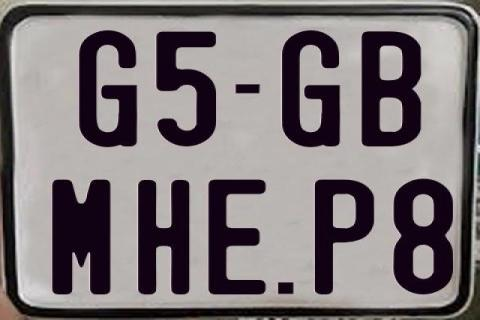0: (392, 178, 454, 298), (156, 30, 218, 146)
B: (362, 30, 426, 148)
E: (206, 178, 265, 294)
G: (77, 30, 140, 152), (280, 30, 344, 148)
H: (136, 178, 191, 294)
M: (50, 179, 109, 297)
P: (312, 177, 376, 293)
